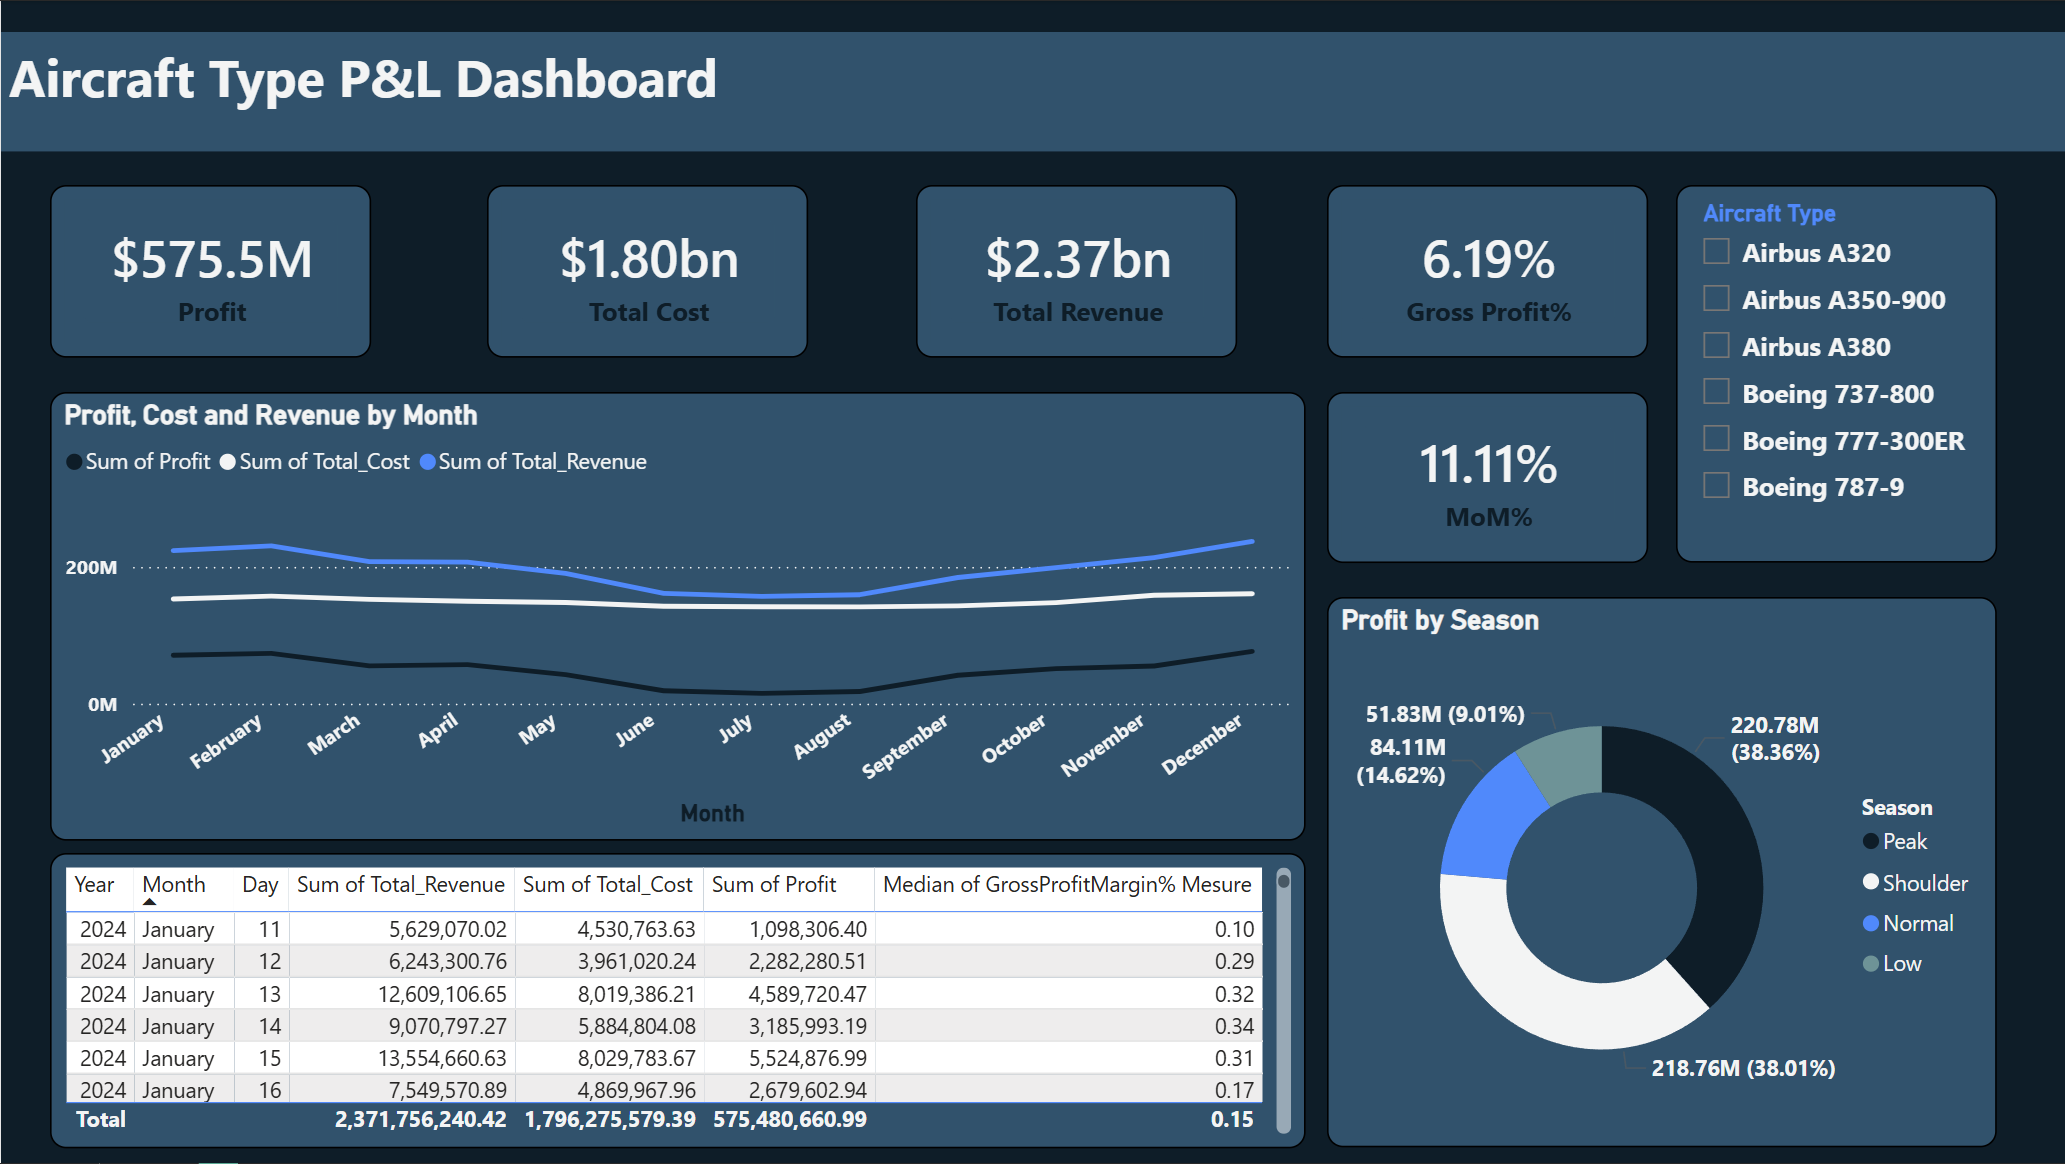

Layout of this report page (visuals, bound fields, positions):
{"tool":"powerbi","page":{"name":"Profit/Loss","canvas":[1280,720],"ordinal":0},"visuals":[{"type":"lineChart","title":"Profit, Cost and Revenue by Month","fields":{"Y":["Sum(airline_route_profitability.Profit)","Sum(airline_route_profitability.Total_Cost)","Sum(airline_route_profitability.Total_Revenue)"],"Category":["airline_route_profitability.Flight_Date.Variation.Date Hierarchy.Month"]},"box":[30.5,242.1,778.3,278.5],"z":0},{"type":"cardVisual","fields":{"Data":["Sum(airline_route_profitability.Profit)"]},"box":[30.5,114.2,199.3,107.1],"z":1000},{"type":"cardVisual","fields":{"Data":["Sum(airline_route_profitability.Total_Cost)"]},"box":[301.2,114.2,199.3,107.1],"z":2000},{"type":"cardVisual","fields":{"Data":["Sum(airline_route_profitability.Total_Revenue)"]},"box":[566.7,114.2,199.3,107.1],"z":3000},{"type":"cardVisual","fields":{"Data":["Avg(airline_route_profitability.GrossProfitMargin% Mesure)"]},"box":[821.7,114.2,199.3,107.1],"z":4000},{"type":"slicer","fields":{"Values":["airline_route_profitability.Aircraft_Type"]},"box":[1037.9,114.2,199.3,233.7],"z":5000},{"type":"tableEx","fields":{"Values":["airline_route_profitability.Flight_Date.Variation.Date Hierarchy.Year","airline_route_profitability.Flight_Date.Variation.Date Hierarchy.Month","airline_route_profitability.Flight_Date.Variation.Date Hierarchy.Day","Sum(airline_route_profitability.Total_Revenue)","Sum(airline_route_profitability.Total_Cost)","Sum(airline_route_profitability.Profit)","Median(airline_route_profitability.GrossProfitMargin% Mesure)"]},"box":[30.5,527.7,778.3,183],"z":6000},{"type":"donutChart","title":"Profit by Season","fields":{"Category":["airline_route_profitability.Season"],"Y":["Sum(airline_route_profitability.Profit)"]},"box":[821.7,369.3,415.4,341.4],"z":7000},{"type":"cardVisual","fields":{"Data":["airline_route_profitability.MoM%"]},"box":[821.7,242.1,199.3,105.8],"z":8000},{"type":"textbox","box":[0,19.5,1280,74],"z":9000}]}

Visuals, with their boxes in screenshot pixels (x1, y1, x2, y2), scaled from the page's 1280x720 canvas onto the 2065x1164 screenshot:
"Profit, Cost and Revenue by Month" lineChart: [49, 391, 1305, 842]
cardVisual - Sum(airline_route_profitability.Profit): [49, 185, 371, 358]
cardVisual - Sum(airline_route_profitability.Total_Cost): [486, 185, 807, 358]
cardVisual - Sum(airline_route_profitability.Total_Revenue): [914, 185, 1236, 358]
cardVisual - Avg(airline_route_profitability.GrossProfitMargin% Mesure): [1326, 185, 1647, 358]
slicer - airline_route_profitability.Aircraft_Type: [1674, 185, 1996, 562]
tableEx - airline_route_profitability.Flight_Date.Variation.Date Hierarchy.Year x airline_route_profitability.Flight_Date.Variation.Date Hierarchy.Month: [49, 853, 1305, 1149]
"Profit by Season" donutChart: [1326, 597, 1996, 1149]
cardVisual - airline_route_profitability.MoM%: [1326, 391, 1647, 562]
textbox: [0, 32, 2064, 151]
